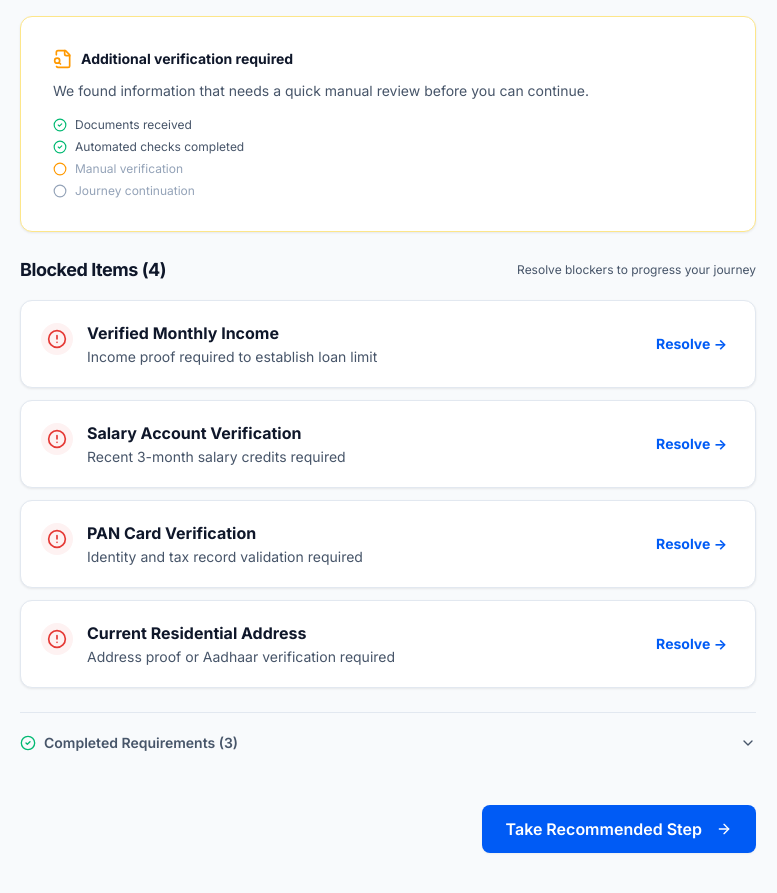
Test: Screen04CurrentStatus (F14) › toggles completed requirements disclosure
(page scrolled)
Expected: the text "Completed Requirements (3)" is shown, [44,733,238,753]
Click the button "Completed Requirements (3)" at (134, 742), box [20,721,756,765]
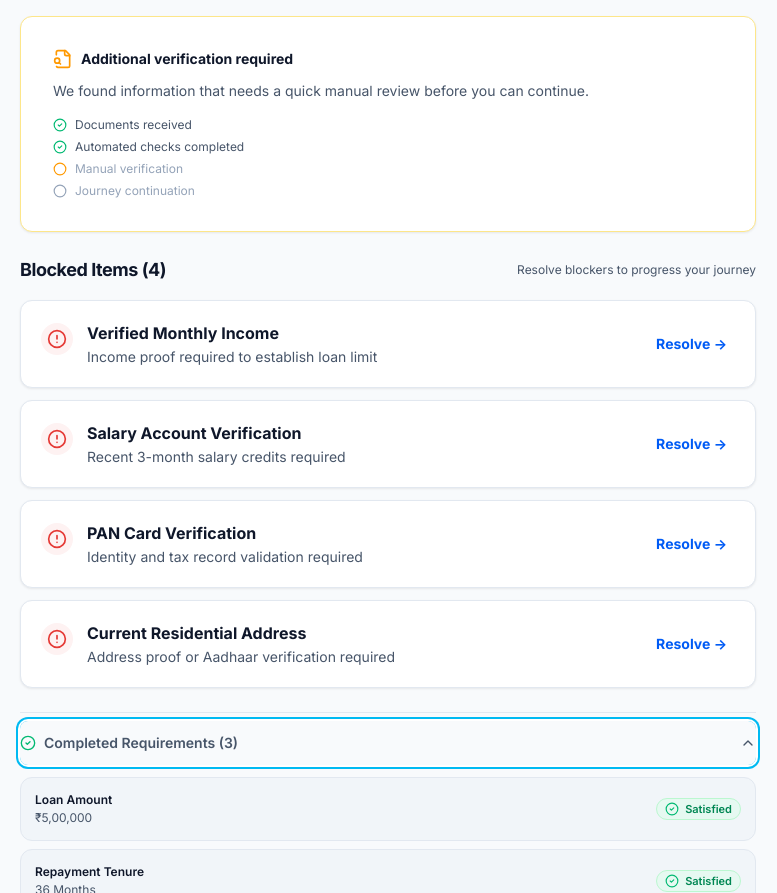
Now the text "Loan Amount" is shown, box [35,792,112,808]
Now the text "Repayment Tenure" is shown, box [35,864,144,880]
Click the button "Completed Requirements (3)" at (134, 742), box [20,721,756,765]
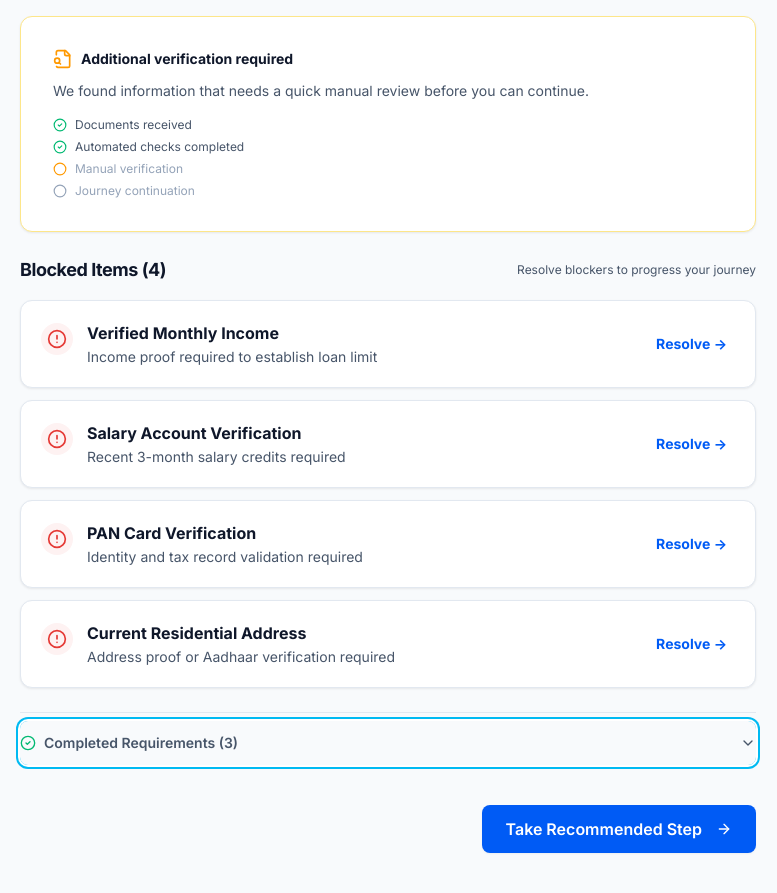
Now the text "Repayment Tenure" is gone
